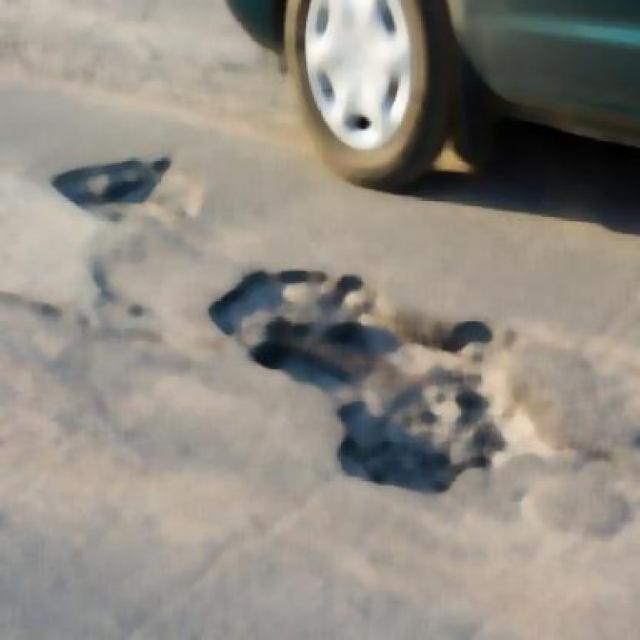Pothole: (228, 260, 520, 505), (69, 130, 168, 244)
